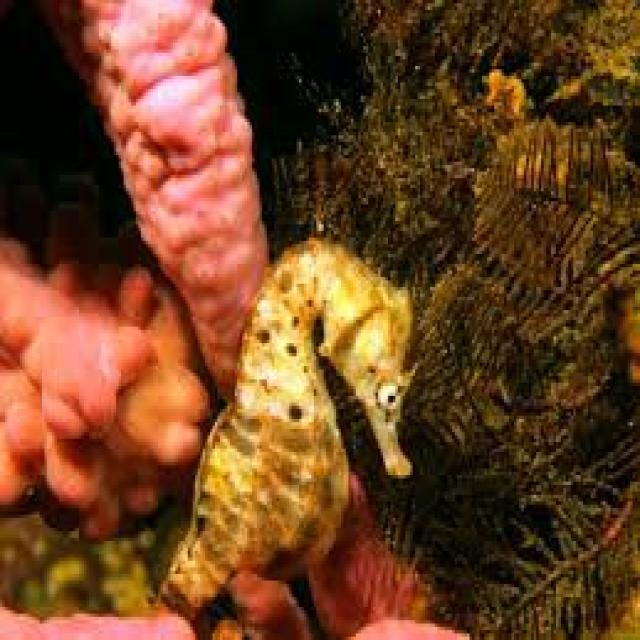seahorse: (163, 238, 413, 607)
